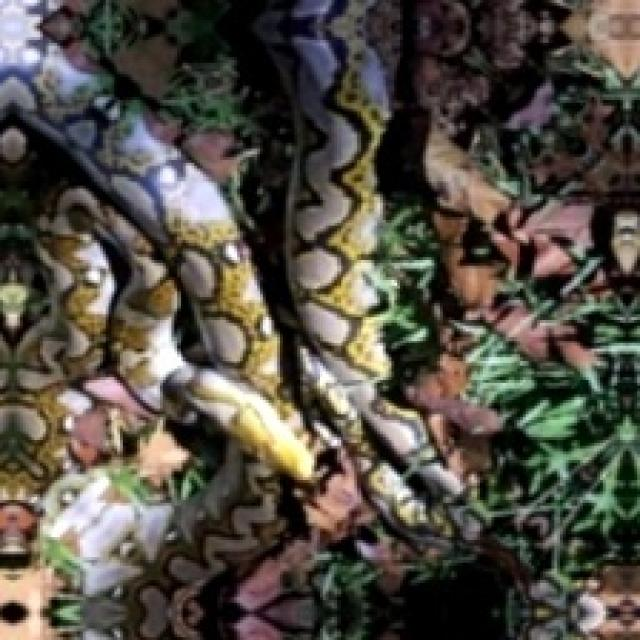reticulated python: (0, 0, 475, 640)
